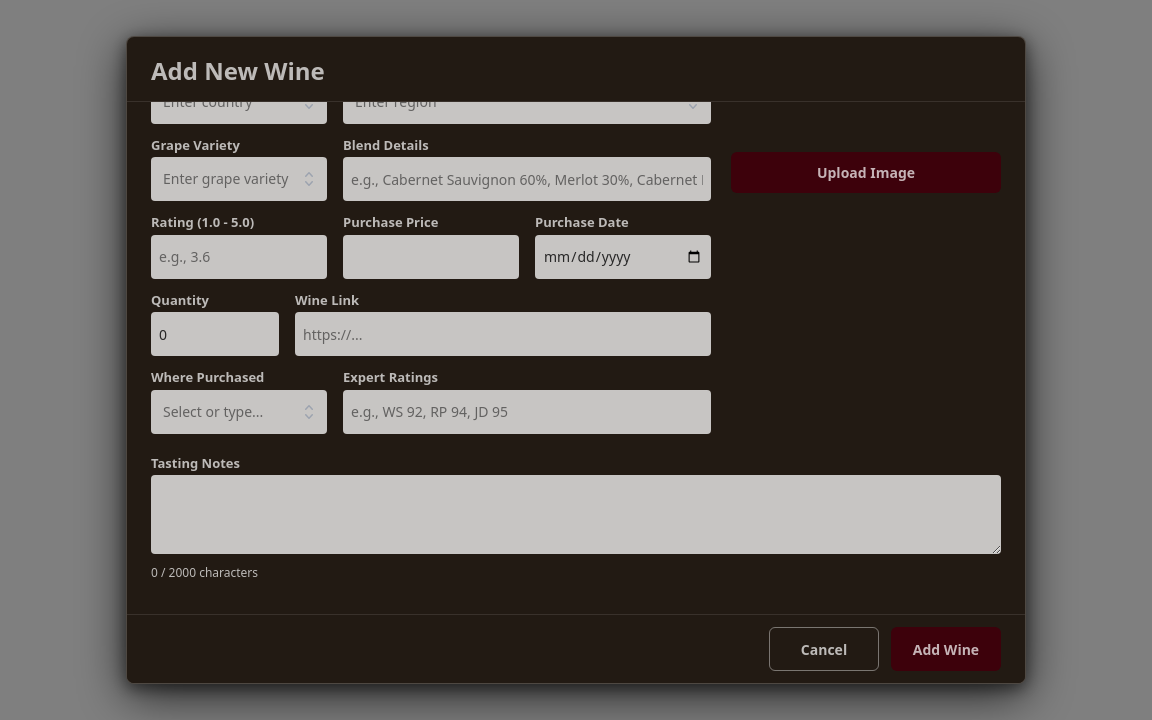
Test: WineDetailModal › Notes Character Counter › displays character count for notes field
The width and height of the screenshot is (1152, 720).
(page scrolled)
Expected: the text "0 / 2000 characters" is shown, [151,564,258,582]
// Notes textarea is the last textbox
Type "Test notes" into the text box at [576, 514], box [151,475,1001,554]
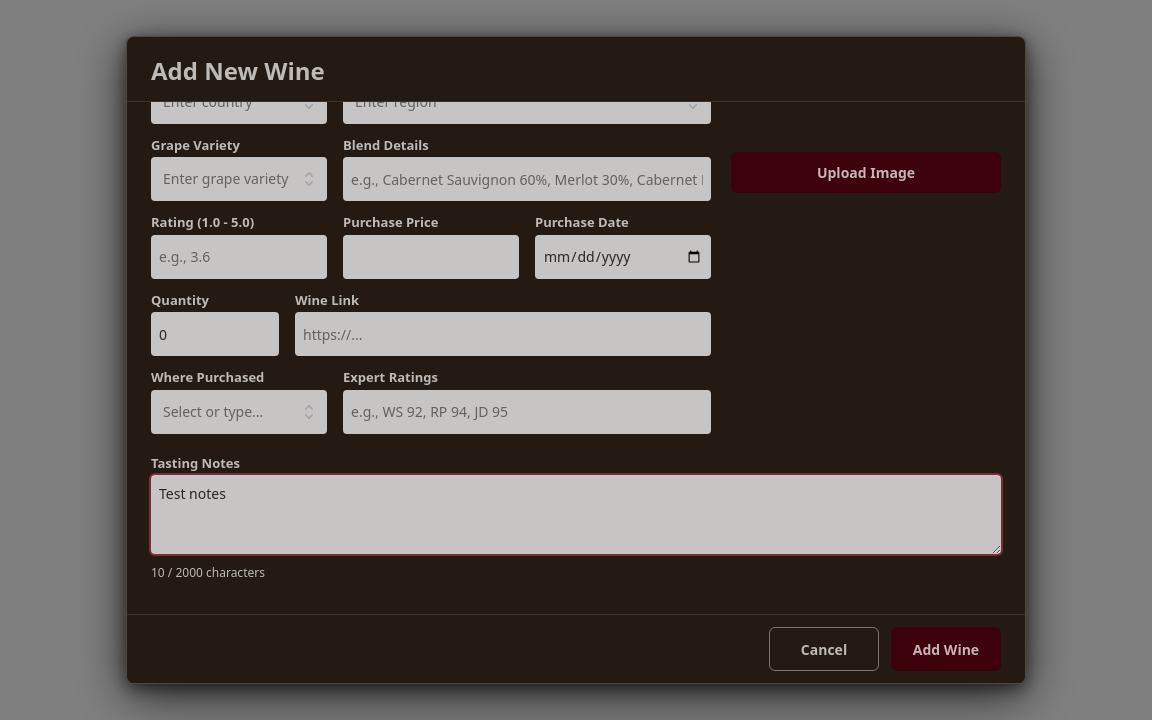
Result: the text "10 / 2000 characters" is shown at [151,564,265,582]
